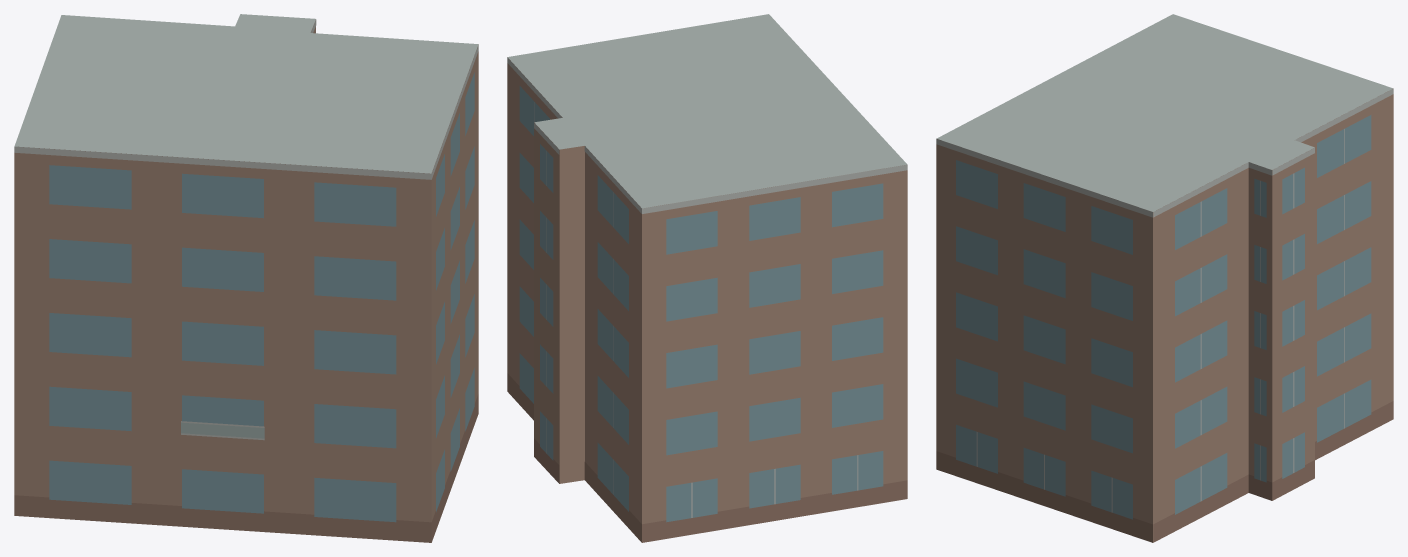
Rendered from survey-upis-32647477.glb.
3 views of the same model, side by side, from view 1: azimuth 30°, elevation 25°; view 2: azimuth 150°, elevation 25°; view 3: azimuth 270°, elevation 25° (orthographic). The views are drawn at different scales.
Visible parts, largest first — view 1: survey-upis-32647477.tmp; view 2: survey-upis-32647477.tmp; view 3: survey-upis-32647477.tmp.
Part boxes in pixels (x1,y1,x2,y2): survey-upis-32647477.tmp: (14, 14, 478, 542); survey-upis-32647477.tmp: (507, 14, 907, 542); survey-upis-32647477.tmp: (936, 14, 1393, 542).
Bounding box in the file's own units: 18.37 × 14.3 × 17.92.
